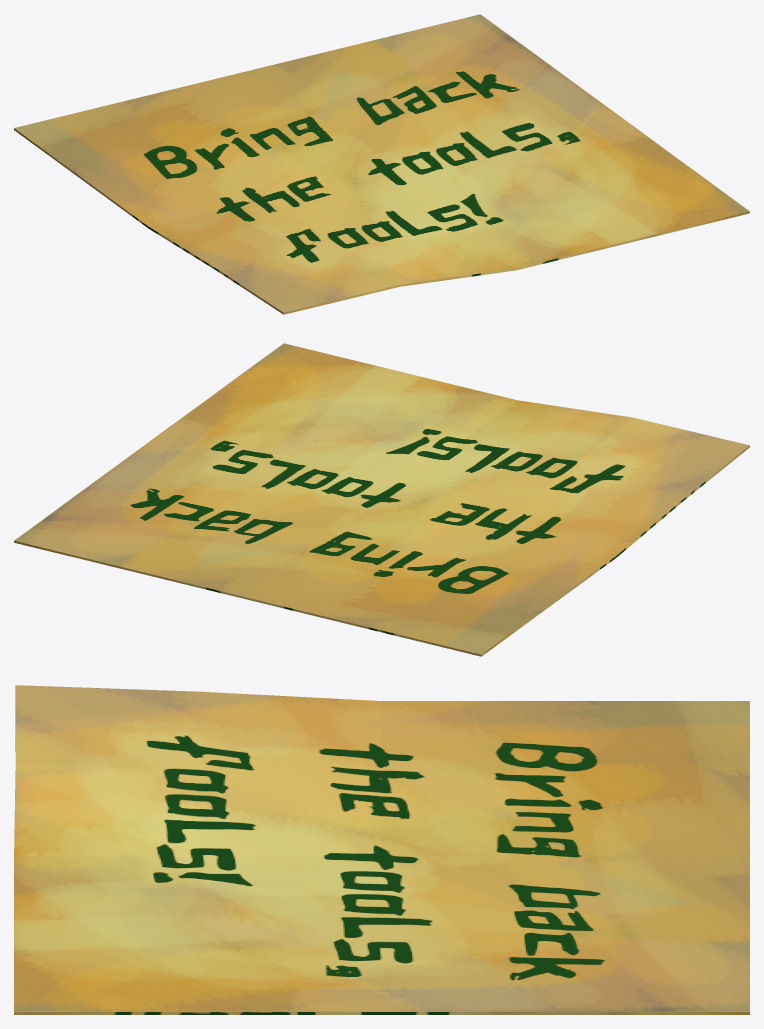
The model's file is LO_notes_tools.glb.
3 views of the same model, one above another, from view 1: azimuth 30°, elevation 25°; view 2: azimuth 150°, elevation 25°; view 3: azimuth 270°, elevation 25° (orthographic). The views are drawn at different scales.
Visible parts, largest first — view 1: Plane.004; view 2: Plane.004; view 3: Plane.004.
Boxes of the visible parts, x1,y1,x2,y2 form: Plane.004: (14, 14, 749, 314); Plane.004: (14, 343, 749, 656); Plane.004: (14, 685, 749, 1014).
Size of the model in its own units: 0.1099 by 0.00316 by 0.1099.
1 material, 1 textured.
